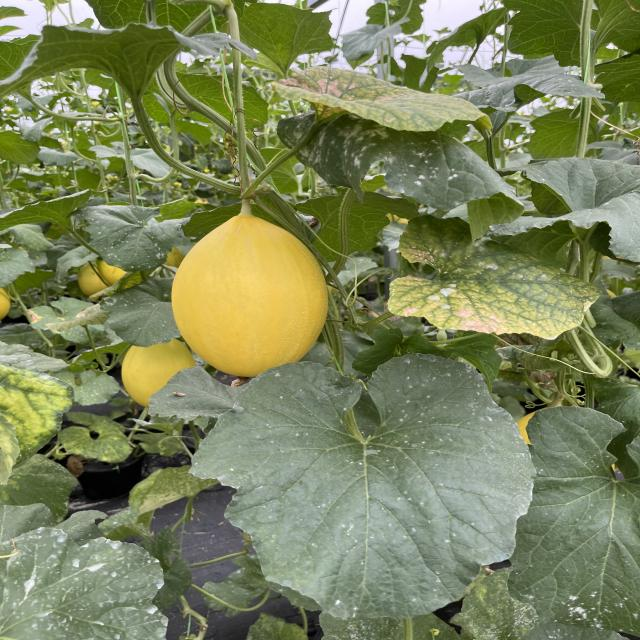CMV: (234, 2, 346, 62)
alternaria leaf blight: (394, 214, 598, 336), (274, 64, 493, 138), (0, 363, 68, 492), (26, 296, 110, 332)
powdery mildew: (197, 354, 523, 613), (517, 408, 640, 638), (377, 127, 519, 216), (84, 208, 190, 270)
